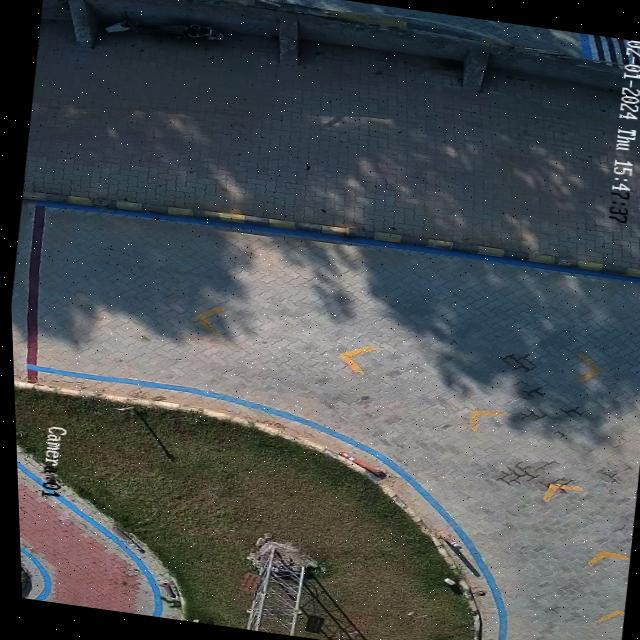No Car: (9, 0, 640, 640)
